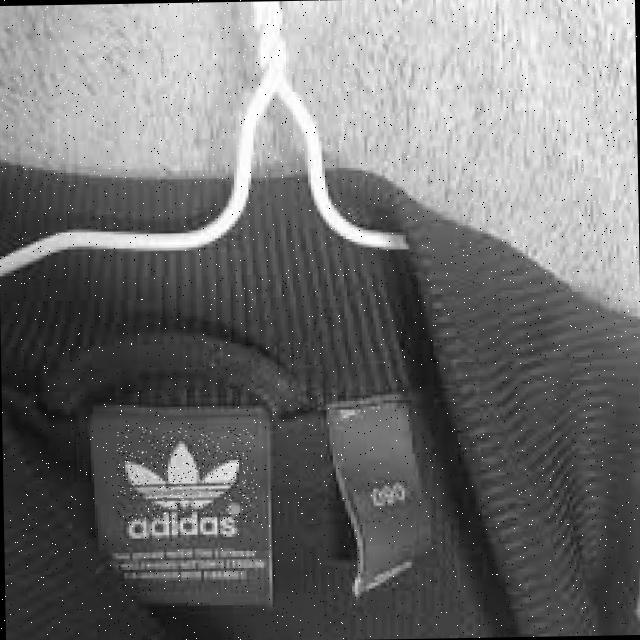Adidas: (116, 425, 257, 524)
